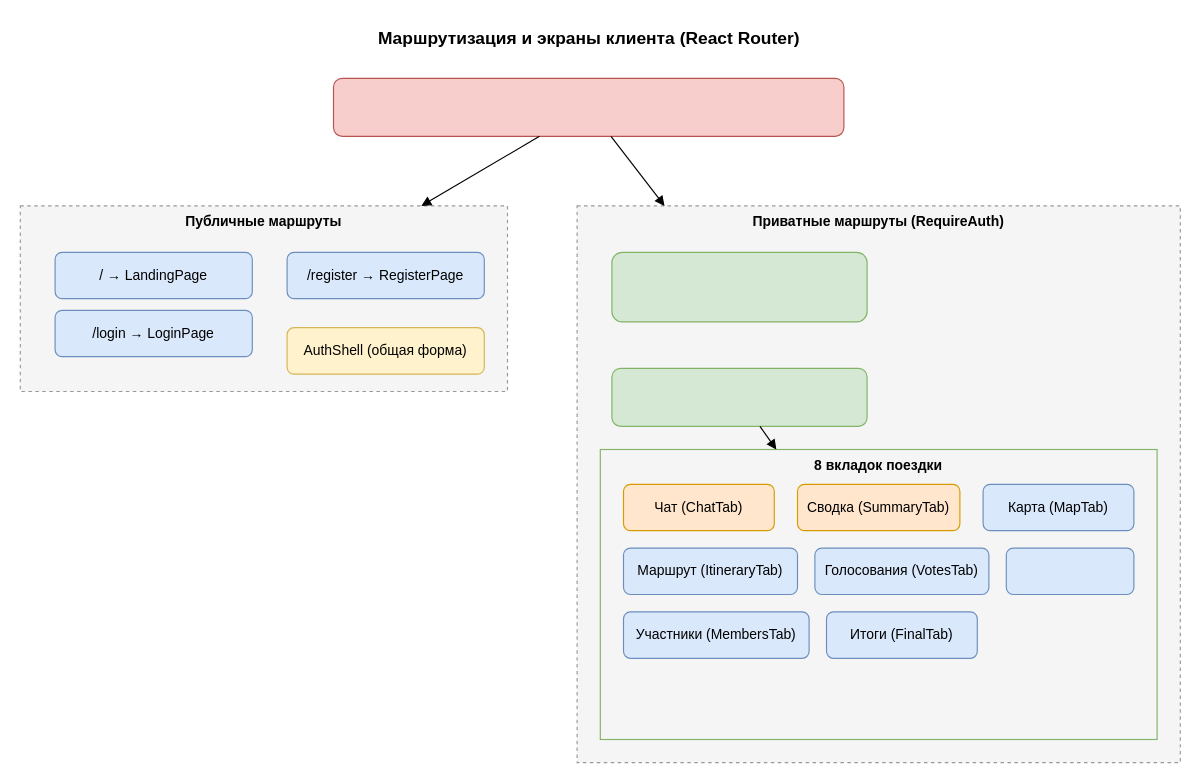
Some shapes in this 1201 by 783 pixel diagram are drawn without their labels. Here are the shapes that lost their labels. From the top down, the centre of each, then its label:
point 588,106: App (провайдеры: QueryClient, I18n, Auth + BrowserRouter)
point 739,286: /trips → DashboardPage (список, фильтры, создание)
point 739,396: /trips/:id → TripDetailPage
point 1069,570: Бюджет (BudgetTab)
